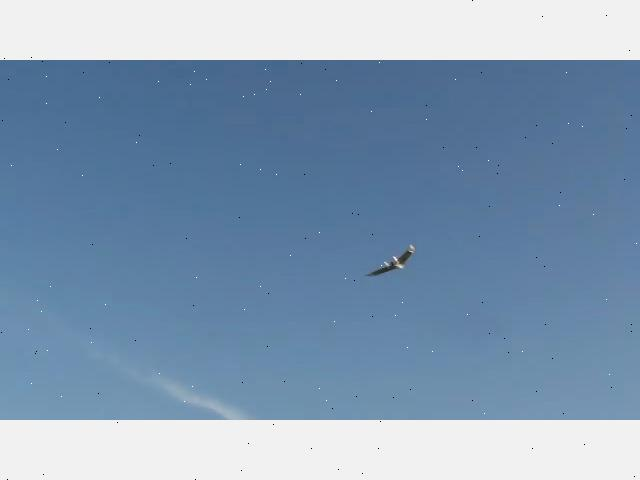Anti-Drone: (368, 247, 412, 278)
